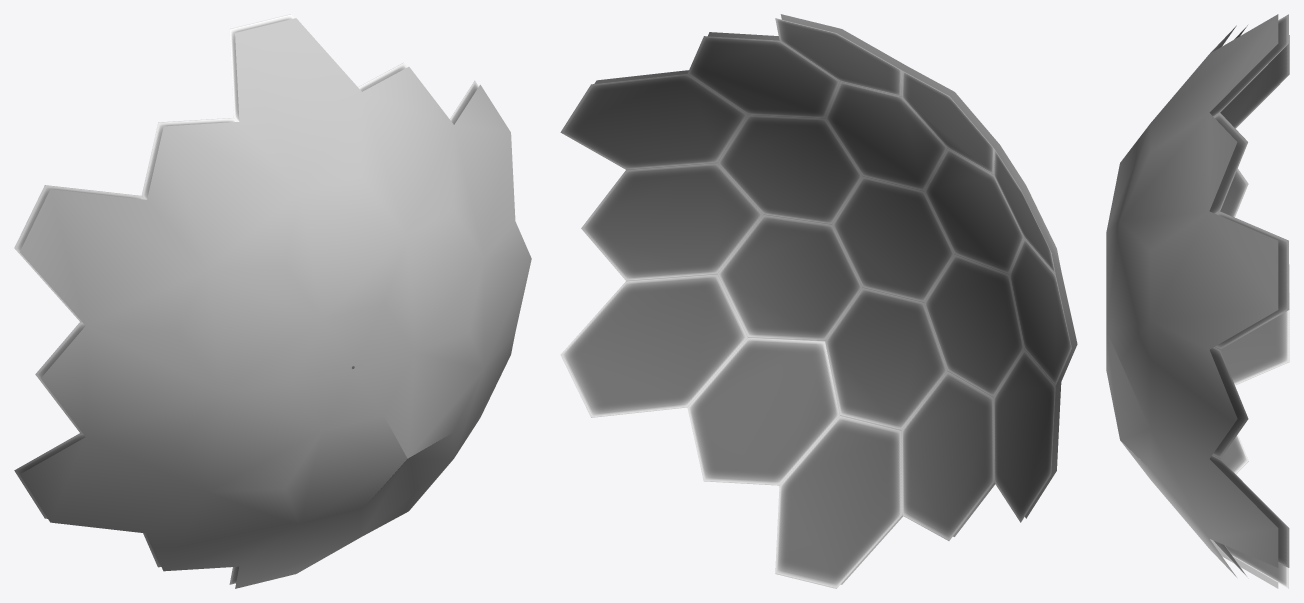
The model's file is shield.FBX.
The picture shows the model from 3 angles, left to right: view 1: azimuth 30°, elevation 25°; view 2: azimuth 150°, elevation 25°; view 3: azimuth 270°, elevation 25°; orthographic projection.
Parts seen in each view (by area): view 1: Cylinder039, Cylinder001; view 2: Cylinder001, Cylinder039; view 3: Cylinder039, Cylinder001.
Boxes of the visible parts, x1,y1,x2,y2 form: Cylinder039: (20,18,531,588); Cylinder001: (14,14,478,584); Cylinder001: (560,18,1071,588); Cylinder039: (594,14,1077,584); Cylinder039: (1106,14,1278,588); Cylinder001: (1209,14,1289,588).
Size of the model in its own units: 151 by 163 by 49.74.
